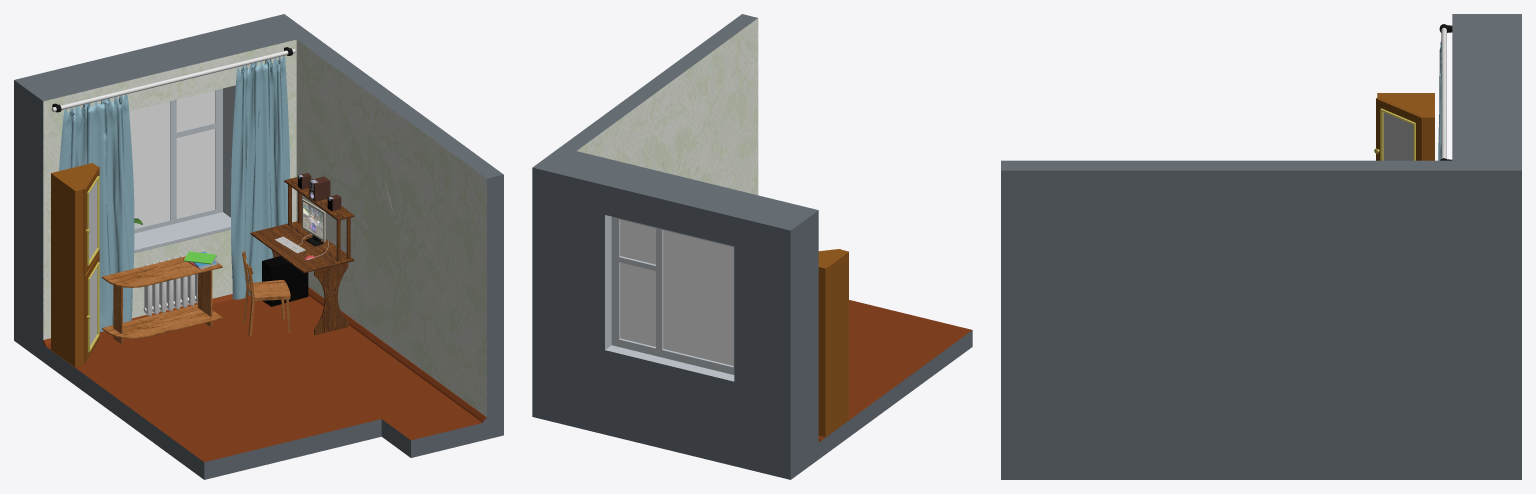
The picture shows the model from 3 angles, left to right: view 1: azimuth 30°, elevation 25°; view 2: azimuth 150°, elevation 25°; view 3: azimuth 270°, elevation 25°; orthographic projection. The views are drawn at different scales.
Visible parts, largest first — view 1: Floor_2, Plane.005_28, Plane.006_27, Window.002_81, Cube.001_6, Floor.001_70, Cube.010_13, Floor.002_71, Cube.004_16, Cube.014_19, Cube.041_72, Cube.003_7 (+9 smaller); view 2: Floor_2, Window.001_82, Cube.001_6, Floor.001_70; view 3: Floor_2, Cube.013_5, Cube.001_6, Circle.006_29.
Part boxes in pixels (x1,y1,x2,y2): Floor_2: (14, 14, 503, 479); Plane.005_28: (231, 55, 289, 299); Plane.006_27: (59, 94, 134, 331); Window.002_81: (129, 90, 214, 228); Cube.001_6: (51, 163, 97, 367); Floor.001_70: (134, 88, 222, 233); Cube.010_13: (250, 221, 354, 273); Floor.002_71: (134, 212, 230, 253); Cube.004_16: (102, 304, 222, 338); Cube.014_19: (102, 252, 222, 287); Cube.041_72: (144, 252, 197, 316); Cube.003_7: (271, 250, 348, 334); Floor_2: (532, 14, 972, 479); Window.001_82: (620, 219, 733, 365); Cube.001_6: (818, 249, 848, 437); Floor.001_70: (611, 216, 734, 374); Floor_2: (1001, 14, 1521, 479); Cube.013_5: (1374, 98, 1423, 160); Cube.001_6: (1377, 93, 1434, 160); Circle.006_29: (1439, 23, 1452, 160).
Bounding box in the file's own units: 294 × 271 × 414.
Materials: 26 (3 with a texture image).
